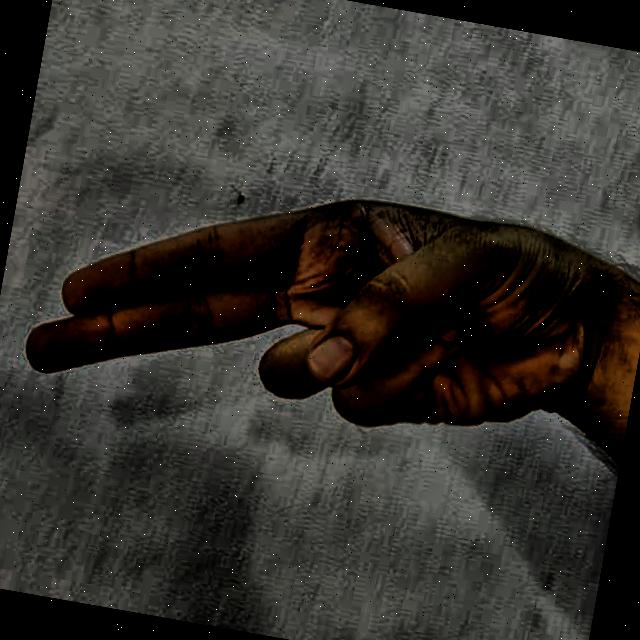Ha: (0, 108, 614, 606)
